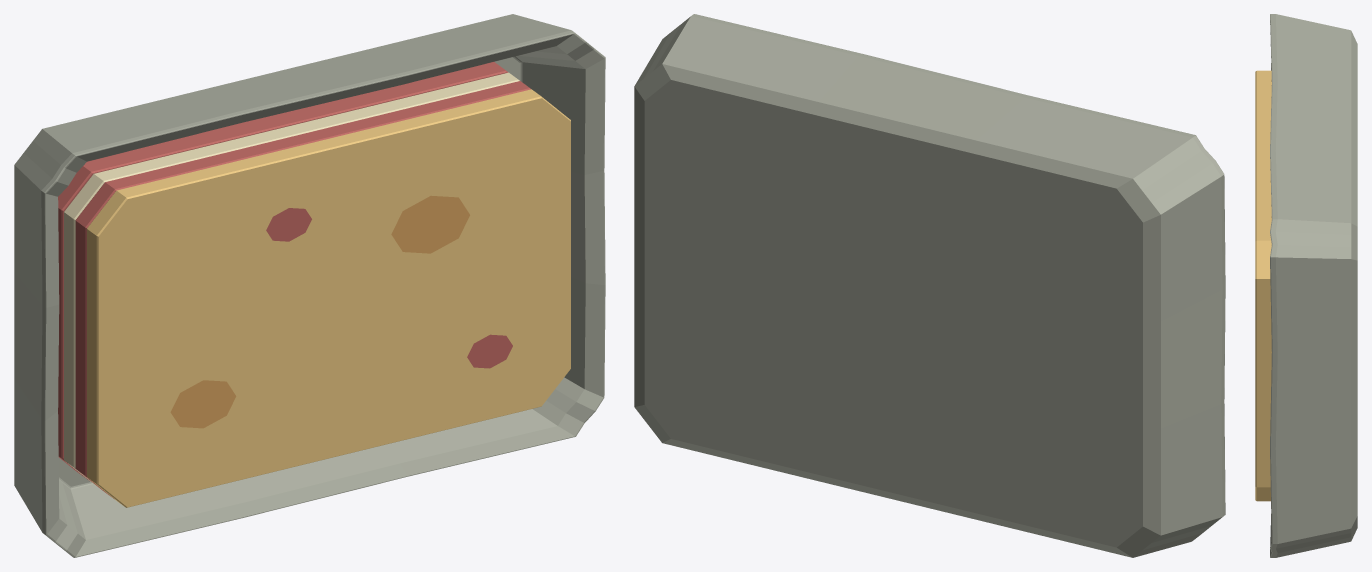
File: lasagna.glb
The picture shows the model from 3 angles, left to right: view 1: azimuth 30°, elevation 25°; view 2: azimuth 150°, elevation 25°; view 3: azimuth 270°, elevation 25°; orthographic projection. The views are drawn at different scales.
Parts seen in each view (by area): view 1: lasagna; view 2: lasagna; view 3: lasagna.
Boxes of the visible parts, x1=… form: lasagna: x1=14, y1=14, x2=605, y2=557; lasagna: x1=634, y1=14, x2=1225, y2=557; lasagna: x1=1255, y1=14, x2=1357, y2=557.
Bounding box in the file's own units: 0.17 × 0.117 × 0.0323.
